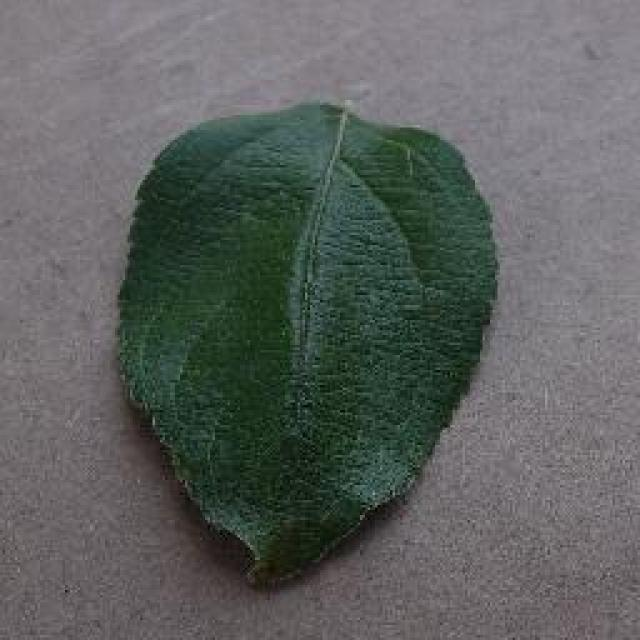apple healthy: (112, 98, 500, 588)
